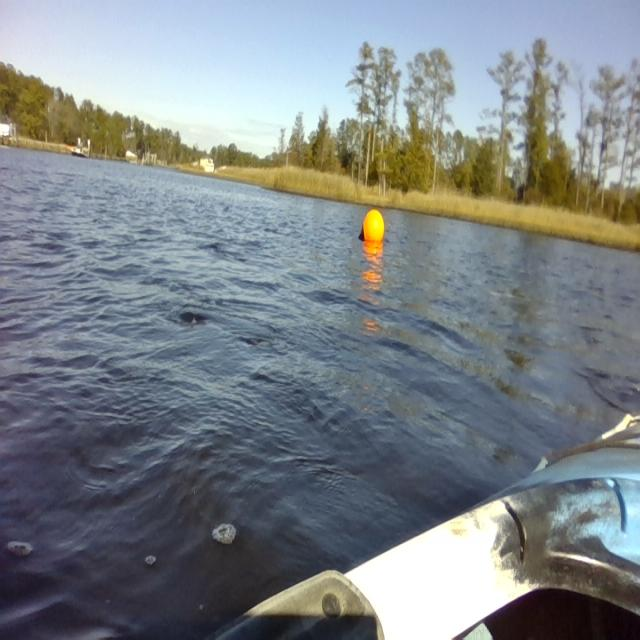Buoy: (350, 202, 388, 258)
